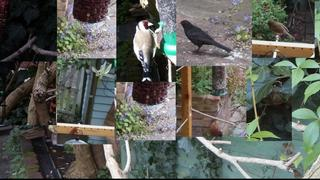blackbird: (178, 20, 232, 56)
goldfinch: (133, 20, 156, 82)
robin: (266, 20, 295, 39)
